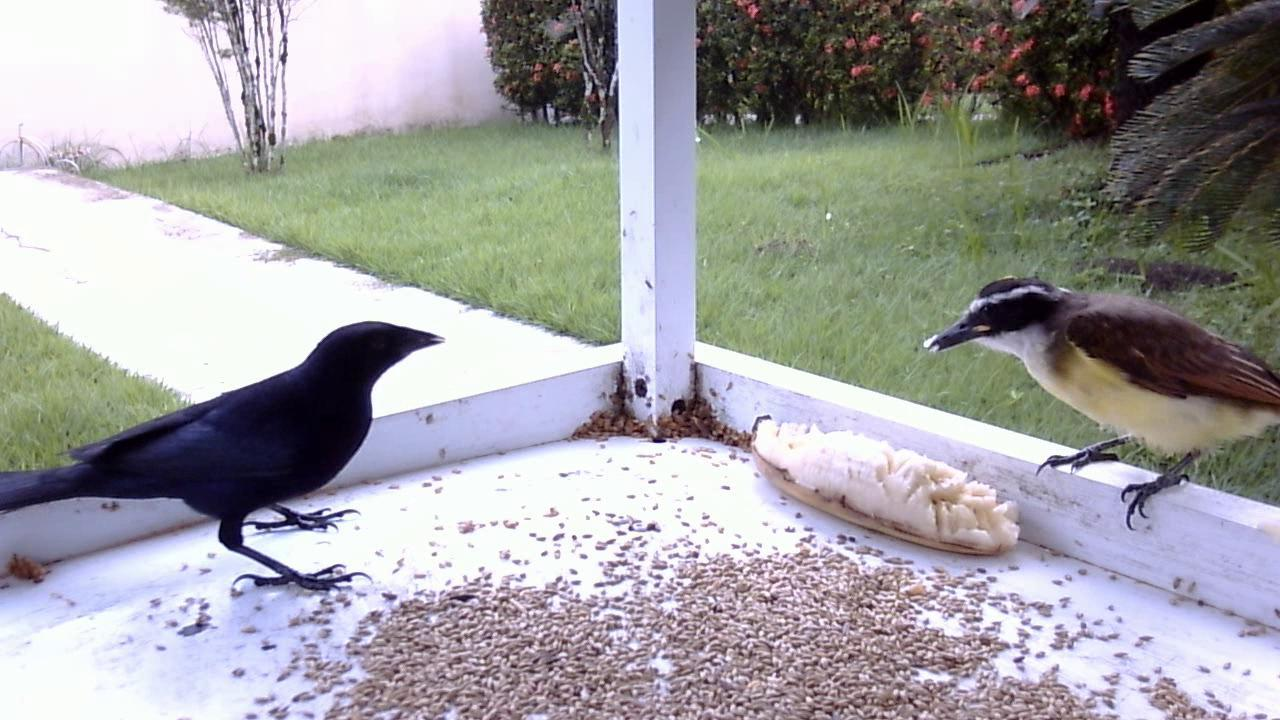bem_te_vi: (918, 264, 1277, 537)
chupim: (5, 300, 457, 614)
